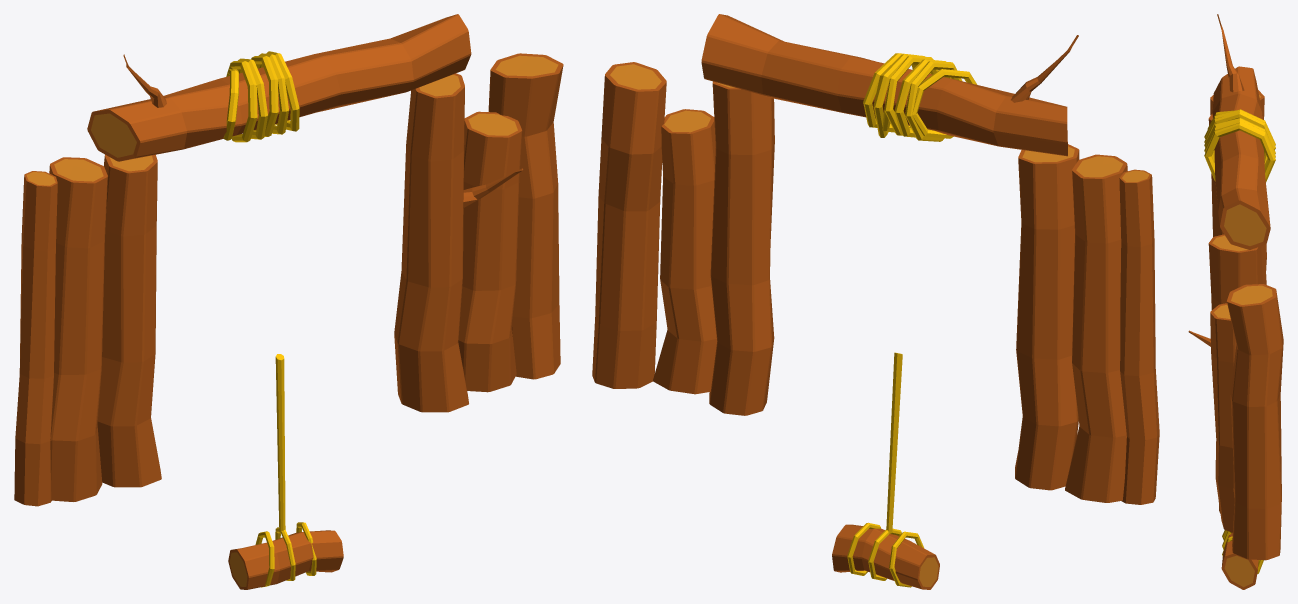
File: obstacle log.fbx
The picture shows the model from 3 angles, left to right: view 1: azimuth 30°, elevation 25°; view 2: azimuth 150°, elevation 25°; view 3: azimuth 270°, elevation 25°; orthographic projection. The views are drawn at different scales.
Visible parts, largest first — view 1: log_base, log_hammer; view 2: log_base, log_hammer; view 3: log_base, log_hammer.
Boxes of the visible parts, box(x1,y1,x2,y2) form: log_base: box(14, 14, 563, 506); log_hammer: box(228, 354, 343, 589); log_base: box(592, 14, 1159, 504); log_hammer: box(832, 352, 939, 589); log_base: box(1188, 14, 1283, 560); log_hammer: box(1221, 530, 1263, 589).
Size of the model in its own units: 897 by 905 by 161.
